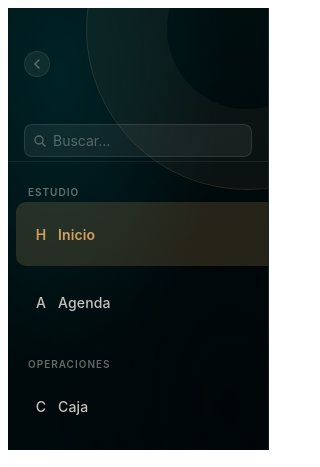
Test case: Sidebar — suksai variant — Theme smoke tests › dark mode: search renders and filters correctly with suksai dark tokens
This screenshot has width=320, height=467.
Step 1. Type "Caja" into the search field → x=162, y=140, box [51, 131, 273, 150]
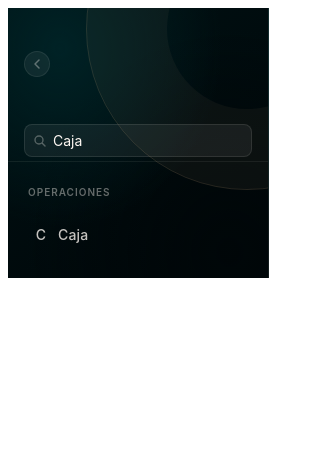
Check: the text "Caja" is shown, box [58, 226, 88, 242]
Check: the link "Inicio" is gone
